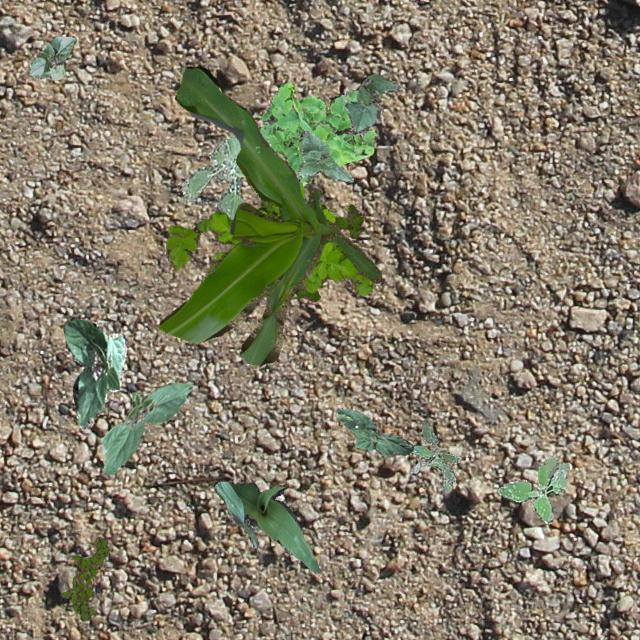crop: (157, 66, 380, 364), (212, 480, 318, 572), (100, 382, 192, 474), (62, 316, 128, 428), (336, 406, 412, 454), (344, 74, 399, 132), (296, 130, 352, 182), (28, 34, 76, 78)
weed: (165, 182, 372, 294), (258, 80, 376, 184), (294, 204, 362, 300), (180, 136, 242, 218), (497, 453, 568, 522), (60, 536, 109, 620), (410, 418, 460, 491)
